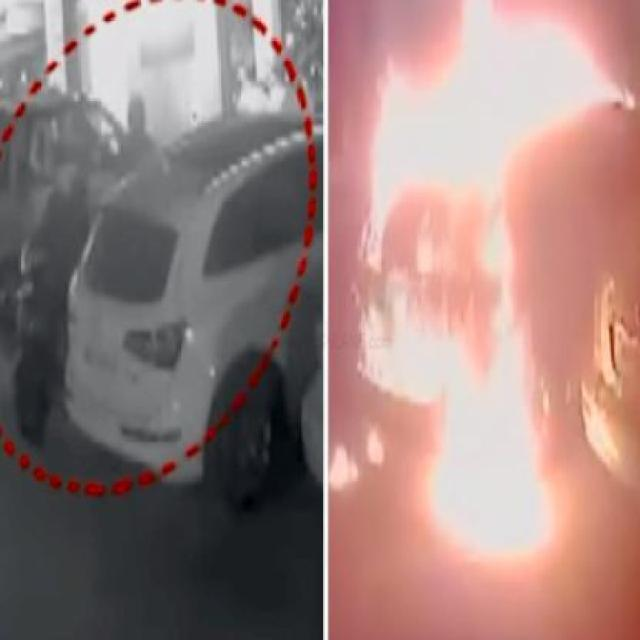Fire: (354, 2, 639, 563), (412, 208, 478, 286), (328, 440, 358, 492), (368, 434, 382, 464)
